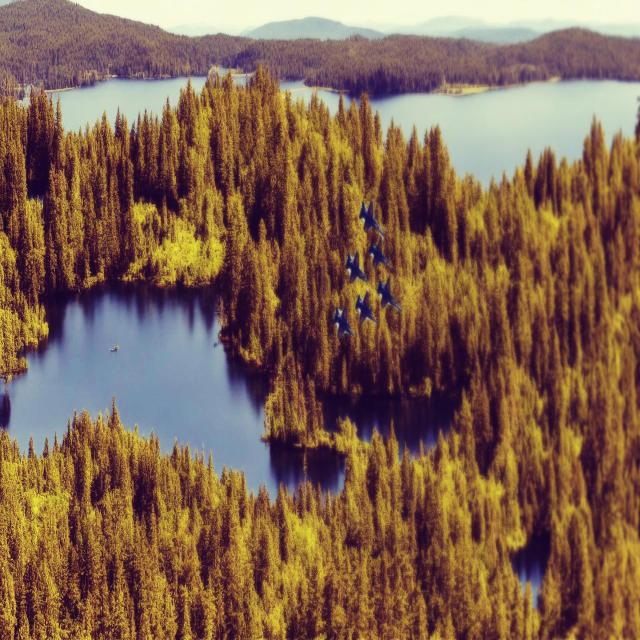airplane: (359, 200, 384, 239), (377, 275, 402, 313), (344, 250, 368, 283), (355, 290, 376, 326), (367, 240, 390, 272), (333, 305, 353, 340)
